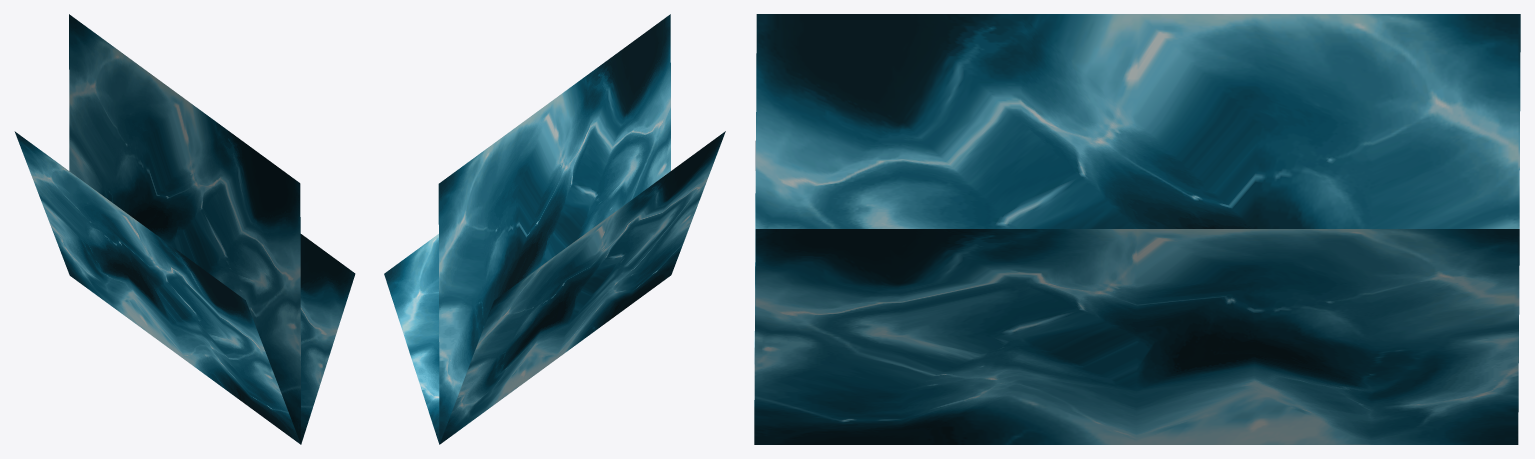
The model's file is zhexian03.FBX.
3 views of the same model, side by side, from view 1: azimuth 30°, elevation 25°; view 2: azimuth 150°, elevation 25°; view 3: azimuth 270°, elevation 25° (orthographic). The views are drawn at different scales.
Parts seen in each view (by area): view 1: Plane002; view 2: Plane002; view 3: Plane002.
Boxes of the visible parts, left/top/right/bottom form: Plane002: left=14, top=14, right=355, bottom=444; Plane002: left=384, top=14, right=725, bottom=444; Plane002: left=754, top=14, right=1520, bottom=444.
Bounding box in the file's own units: 104 × 237 × 382.
